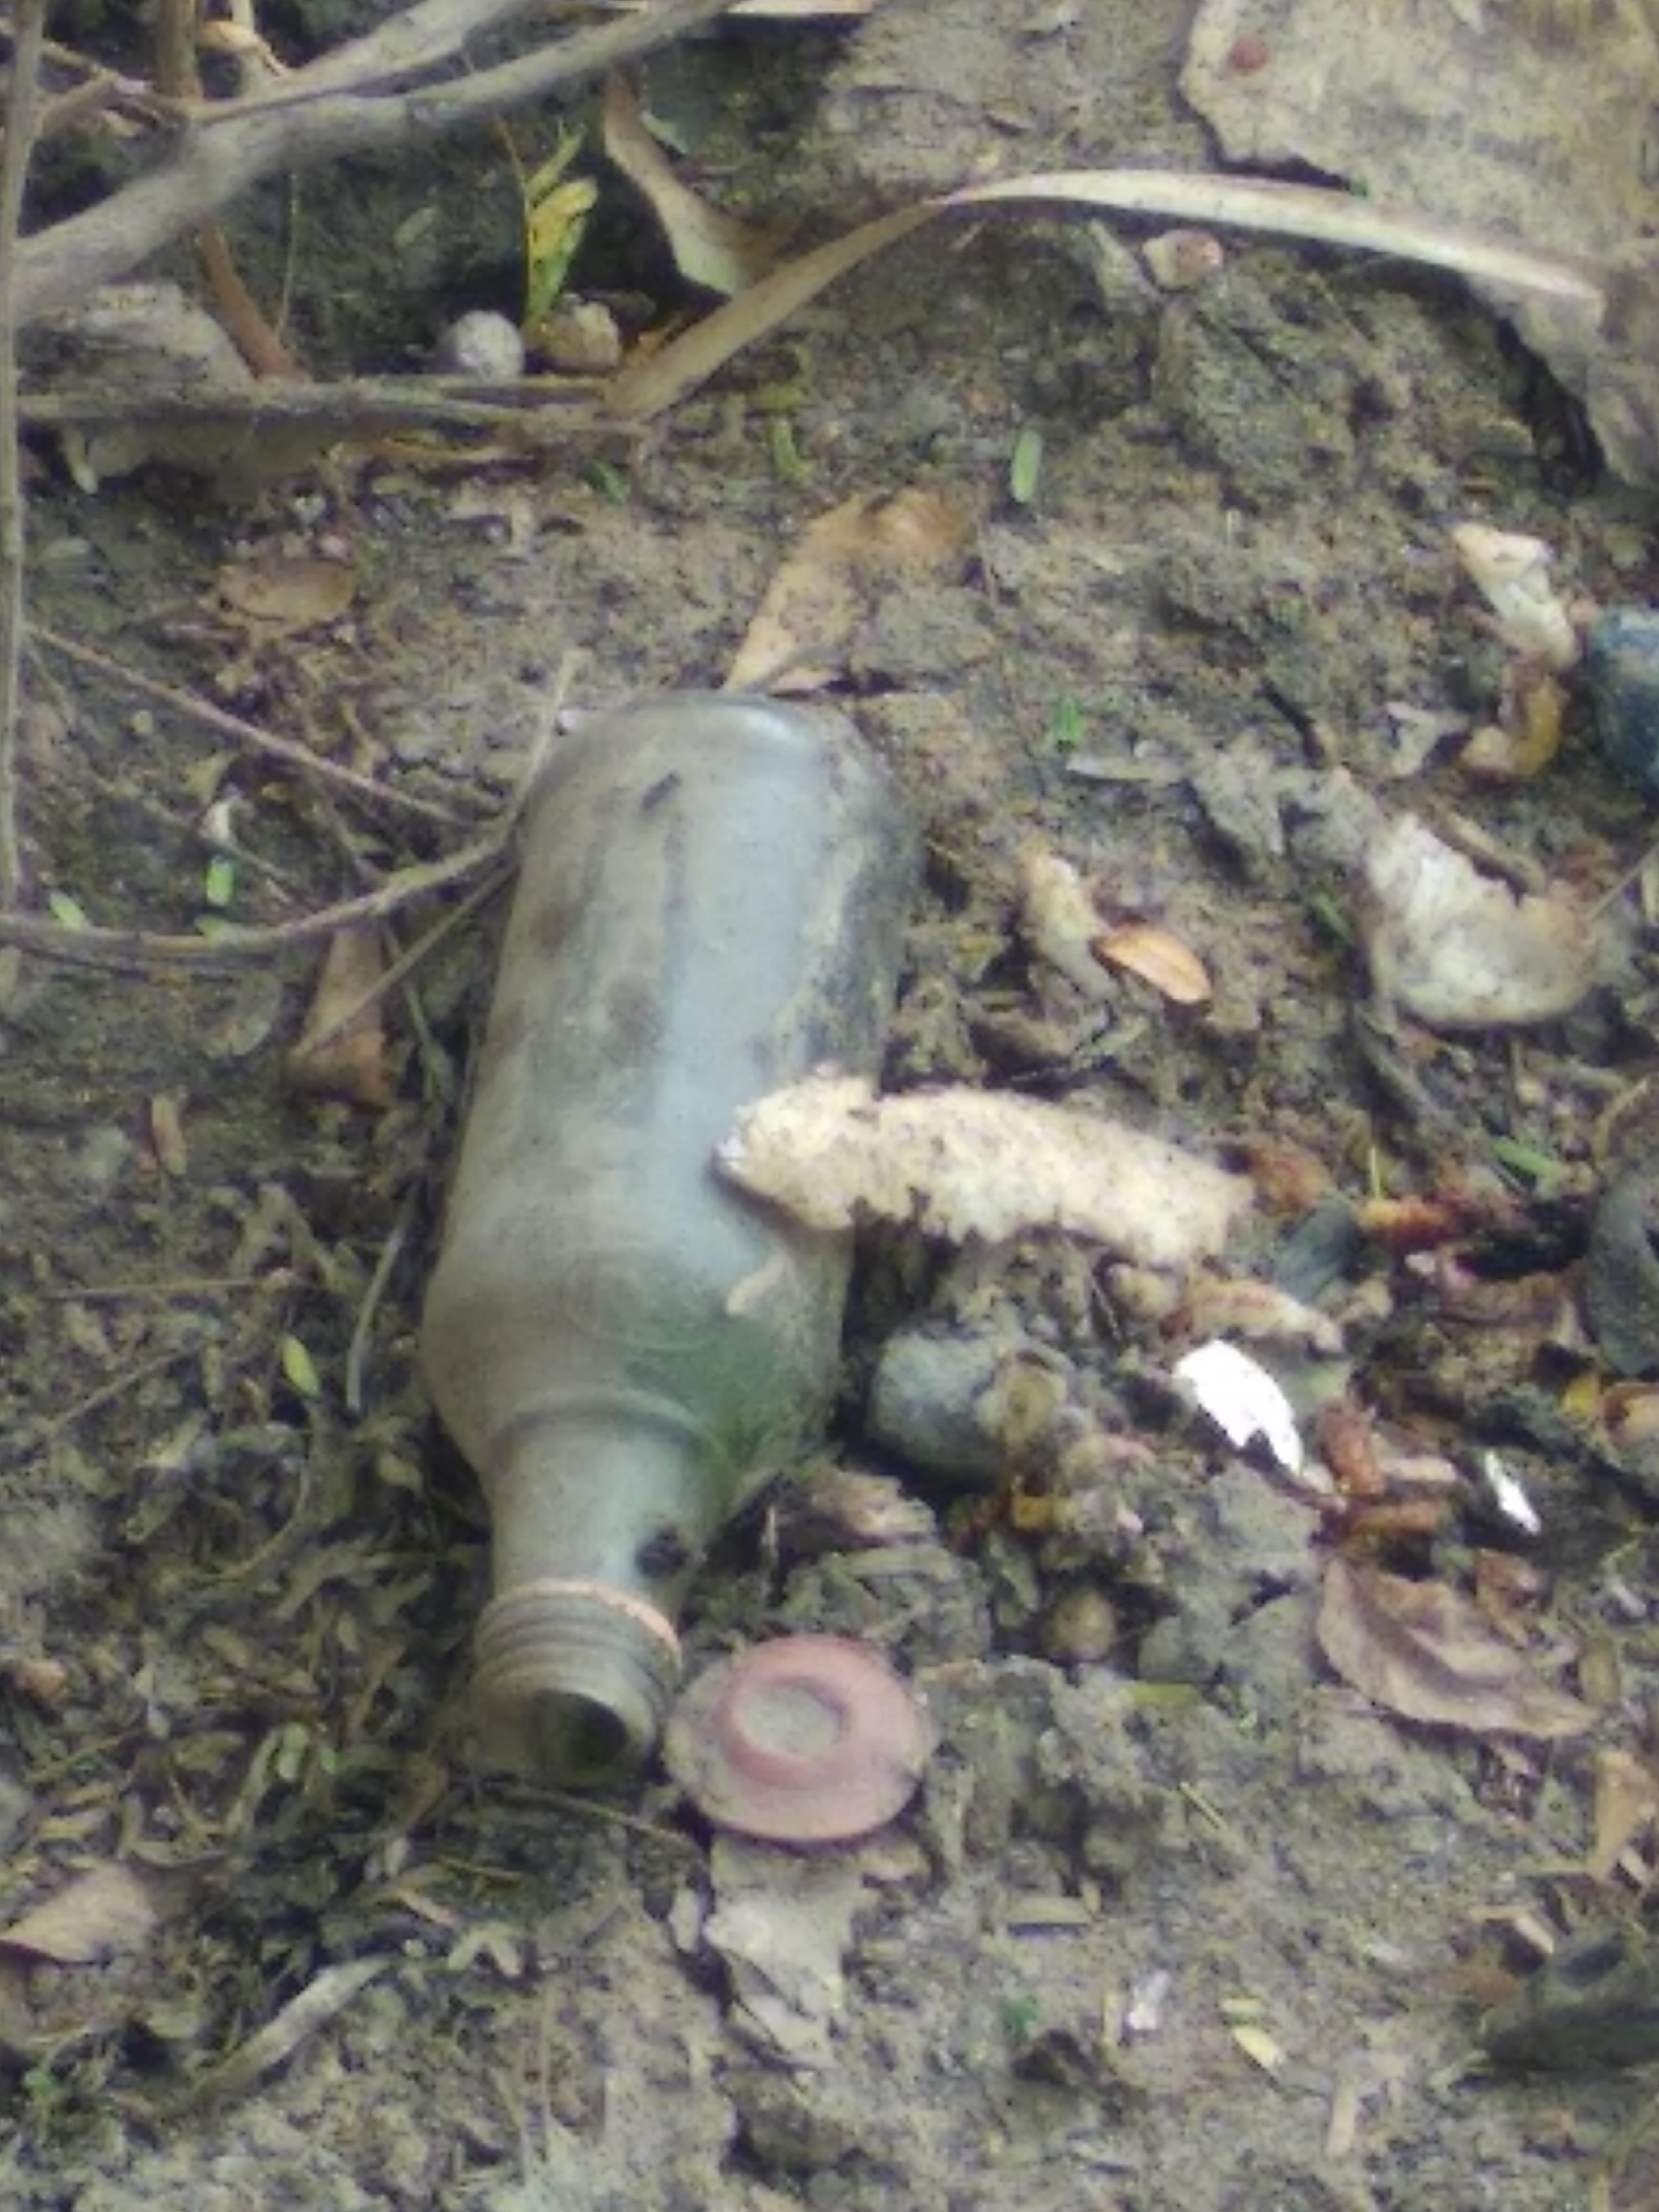trash: (385, 681, 955, 1895)
